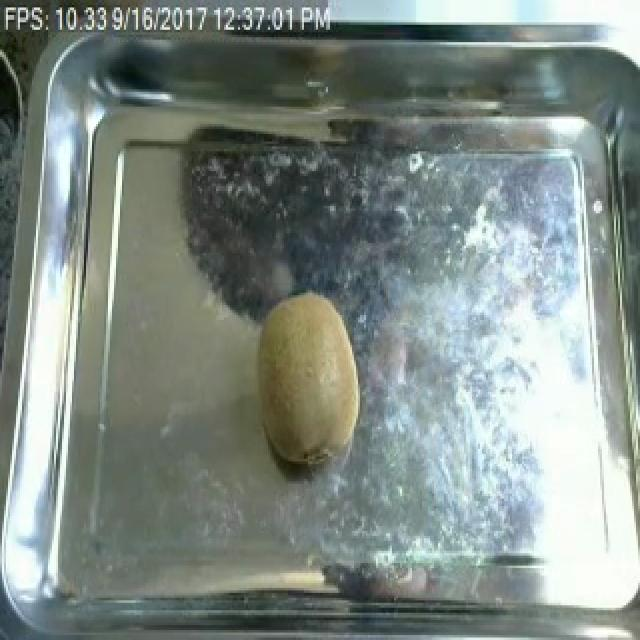Fruit: (246, 283, 370, 471)
